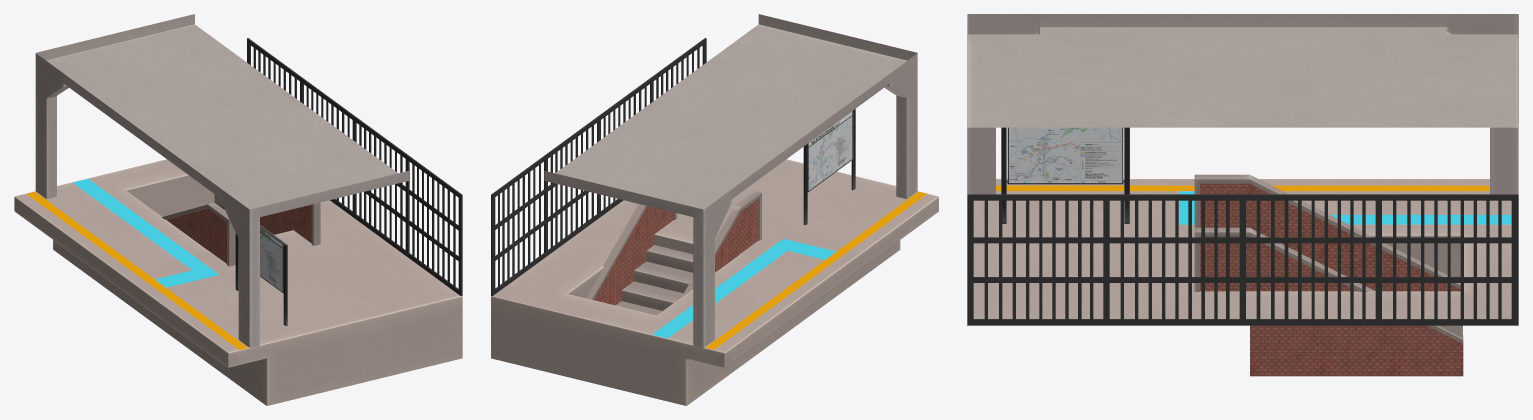
Rendered from plataforma.fbx.
The picture shows the model from 3 angles, left to right: view 1: azimuth 30°, elevation 25°; view 2: azimuth 150°, elevation 25°; view 3: azimuth 270°, elevation 25°; orthographic projection. The views are drawn at different scales.
Parts seen in each view (by area): view 1: Plataforma_Base, Plataforma_Teto, Plataforma_Escadas, Plataforma_Placa; view 2: Plataforma_Base, Plataforma_Teto, Plataforma_Escadas, Plataforma_Placa; view 3: Plataforma_Teto, Plataforma_Escadas, Plataforma_Base, Plataforma_Placa.
Boxes of the visible parts, x1,y1,x2,y2 form: Plataforma_Base: (14, 159, 462, 405); Plataforma_Teto: (35, 14, 408, 347); Plataforma_Escadas: (162, 38, 462, 295); Plataforma_Placa: (235, 225, 287, 325); Plataforma_Base: (491, 159, 938, 405); Plataforma_Teto: (544, 14, 917, 347); Plataforma_Escadas: (491, 38, 761, 315); Plataforma_Placa: (803, 109, 855, 224); Plataforma_Teto: (967, 14, 1518, 194); Plataforma_Escadas: (967, 174, 1518, 376); Plataforma_Base: (973, 179, 1511, 337); Plataforma_Placa: (1001, 127, 1129, 223).
Size of the model in its own units: 568 by 474 by 900.
